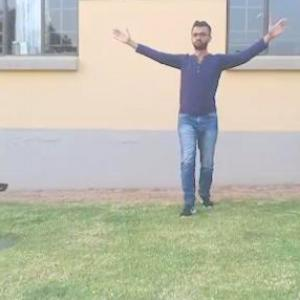takeoff: (113, 16, 284, 208)
